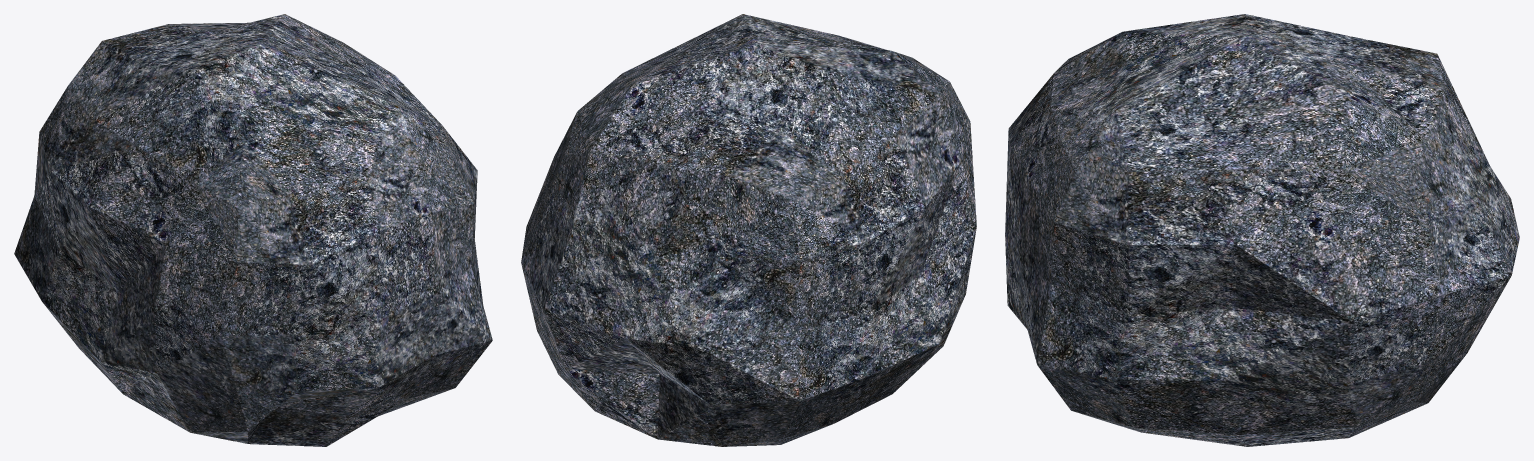
Rendered from asteroid_iron_small_s01_l1.fbx.
3 renders of one model, left to right at view 1: azimuth 30°, elevation 25°; view 2: azimuth 150°, elevation 25°; view 3: azimuth 270°, elevation 25°, orthographic. The views are drawn at different scales.
Visible parts, largest first — view 1: mesh_node; view 2: mesh_node; view 3: mesh_node.
Part boxes in pixels (x1,y1,x2,y2): mesh_node: (14, 14, 492, 446); mesh_node: (521, 14, 976, 446); mesh_node: (1005, 14, 1519, 446).
Bounding box in the file's own units: 24.48 × 25.26 × 30.27.
